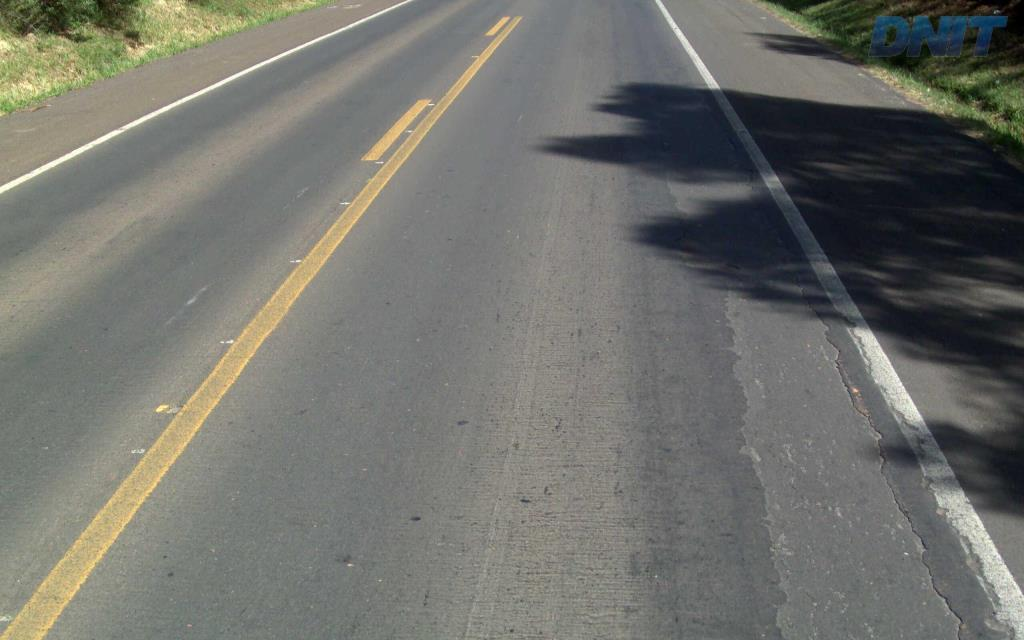pothole: (713, 220, 977, 638)
